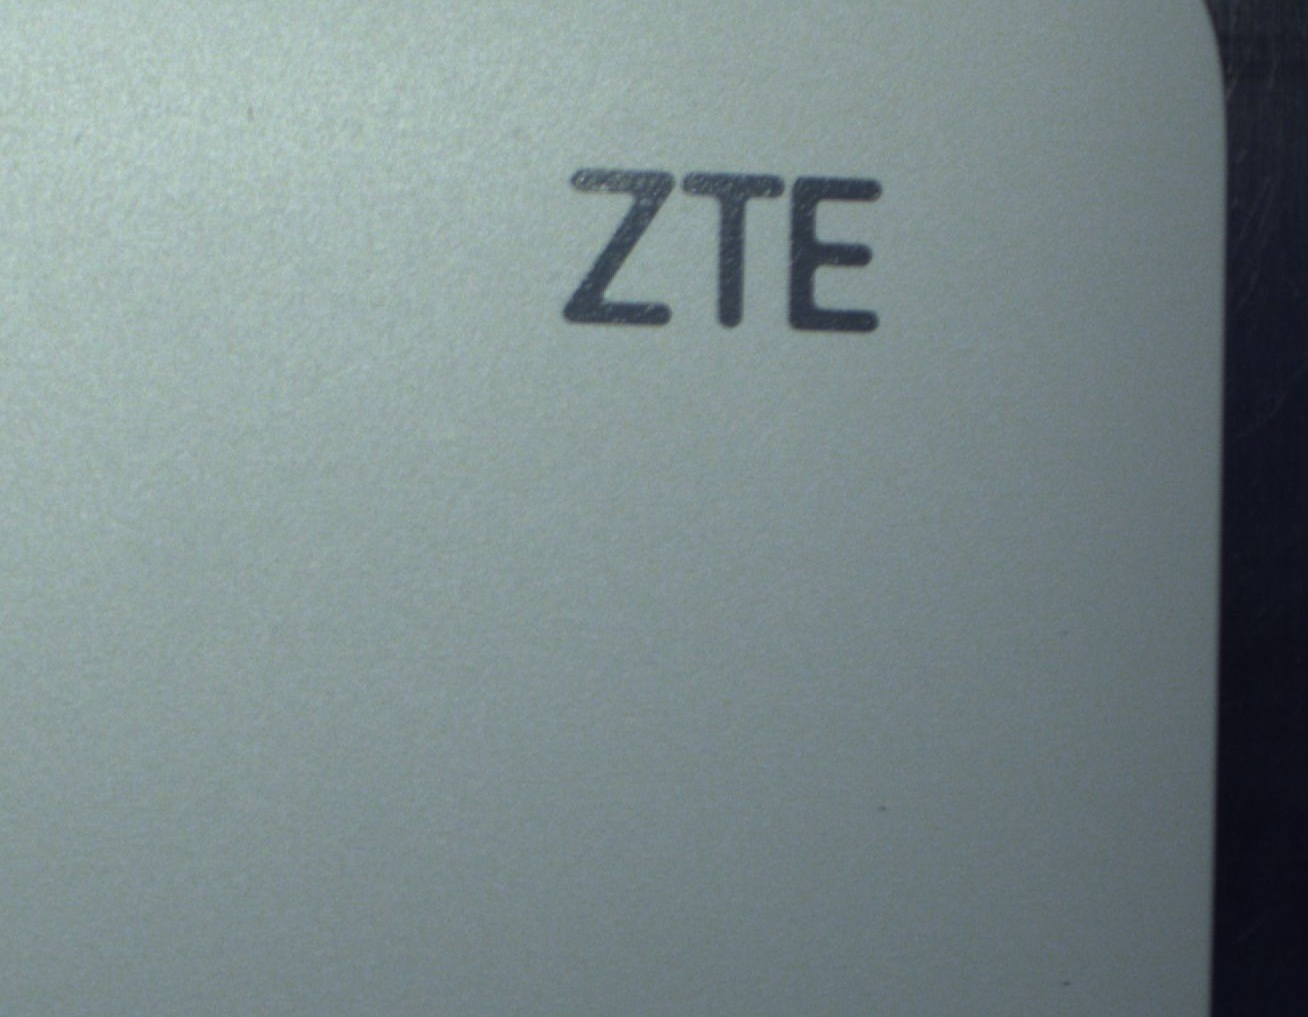AN_ZTE: (537, 146, 902, 365)
